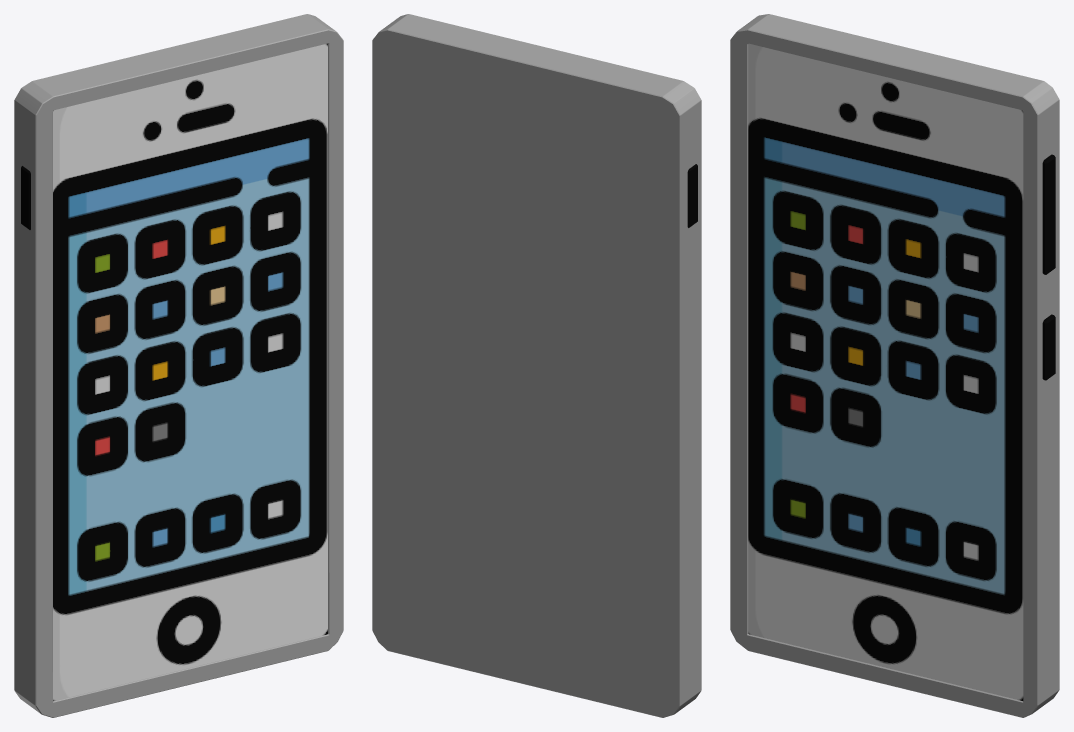
File: Smart Phone.fbx
3 renders of one model, left to right at view 1: azimuth 30°, elevation 25°; view 2: azimuth 150°, elevation 25°; view 3: azimuth 330°, elevation 25°, orthographic.
Visible parts, largest first — view 1: pCube6; view 2: pCube6; view 3: pCube6.
Boxes of the visible parts, bbox=[...] form: pCube6: bbox=[14, 14, 343, 717]; pCube6: bbox=[372, 14, 701, 717]; pCube6: bbox=[730, 14, 1059, 717].
Size of the model in its own units: 7.88 by 14.9 by 0.9479.
